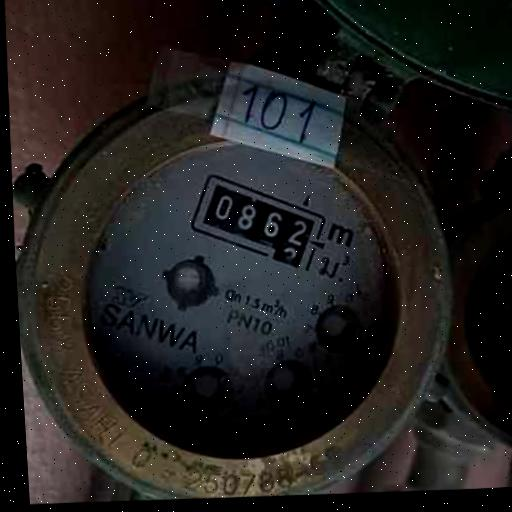0: (199, 182, 243, 233)
2: (269, 208, 319, 270)
6: (250, 199, 294, 250)
8: (224, 191, 268, 242)
border_water_meter_number: (184, 165, 331, 278)
